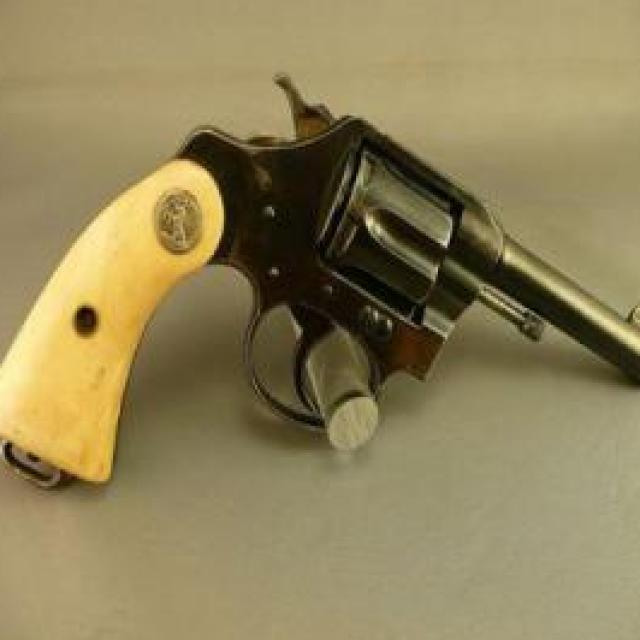pistol: (0, 70, 640, 486)
